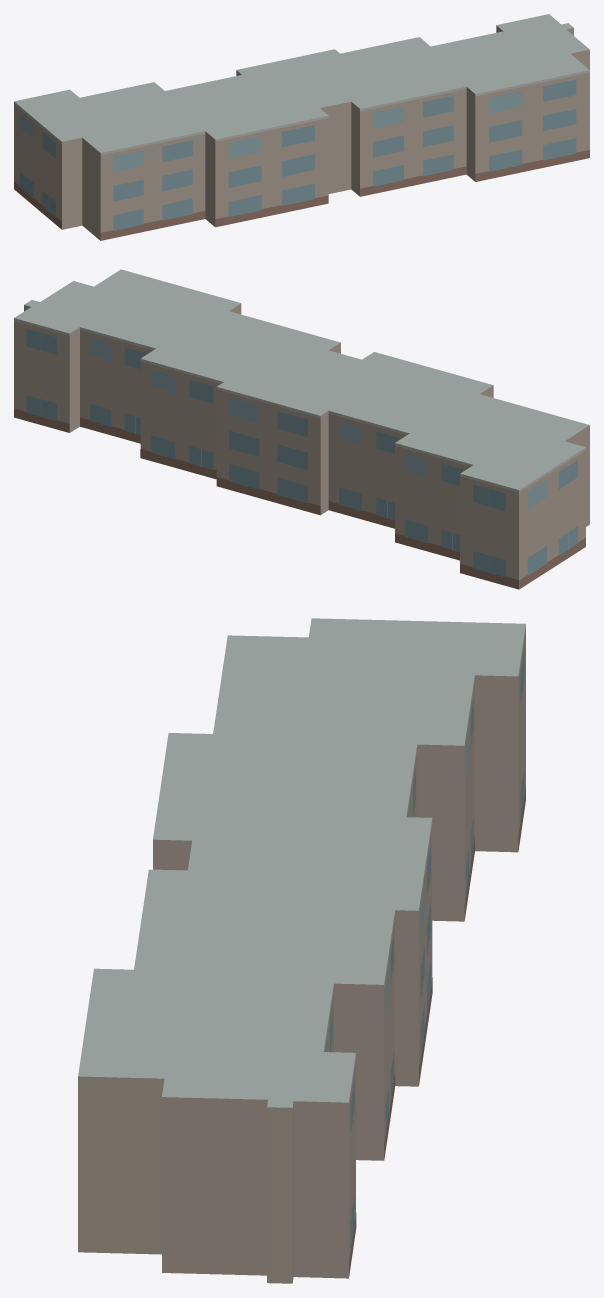
The model's file is survey-upis-32832492.glb.
3 renders of one model, top to bottom at view 1: azimuth 30°, elevation 25°; view 2: azimuth 150°, elevation 25°; view 3: azimuth 270°, elevation 25°, orthographic. The views are drawn at different scales.
Parts seen in each view (by area): view 1: survey-upis-32832492.tmp; view 2: survey-upis-32832492.tmp; view 3: survey-upis-32832492.tmp.
Boxes of the visible parts, x1,y1,x2,y2 form: survey-upis-32832492.tmp: (14,14,589,240); survey-upis-32832492.tmp: (14,269,589,589); survey-upis-32832492.tmp: (78,618,525,1283).
Size of the model in its own units: 54.63 by 9.15 by 21.13.
